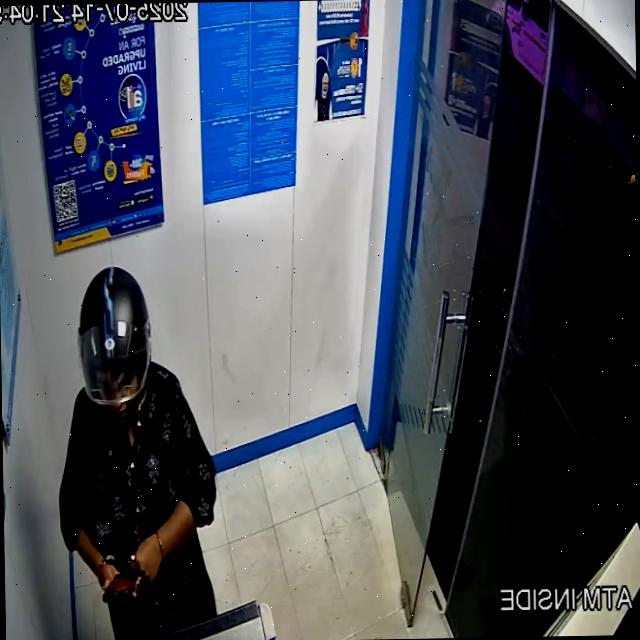helmet: (76, 265, 151, 427)
